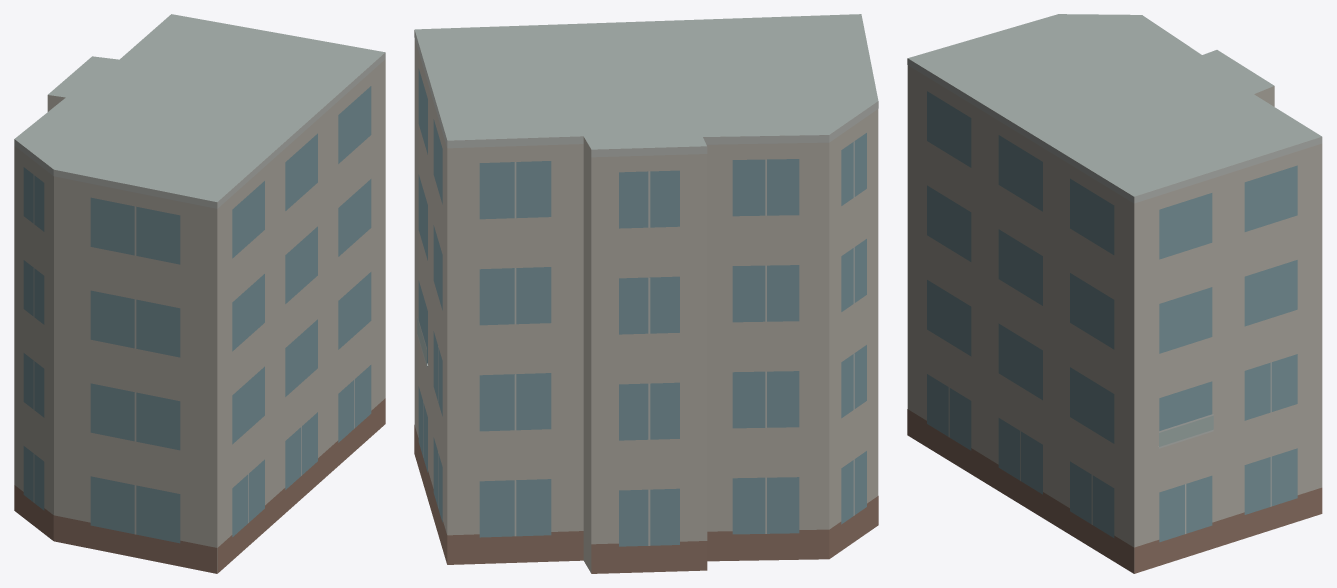
File: survey-upis-32804265.glb
3 renders of one model, left to right at view 1: azimuth 30°, elevation 25°; view 2: azimuth 150°, elevation 25°; view 3: azimuth 270°, elevation 25°, orthographic. The views are drawn at different scales.
Visible parts, largest first — view 1: survey-upis-32804265.tmp; view 2: survey-upis-32804265.tmp; view 3: survey-upis-32804265.tmp.
Part boxes in pixels (left/top/right/bottom): survey-upis-32804265.tmp: left=14, top=14, right=385, bottom=573; survey-upis-32804265.tmp: left=414, top=14, right=878, bottom=573; survey-upis-32804265.tmp: left=907, top=14, right=1322, bottom=573.
Bounding box in the file's own units: 14.04 × 13.5 × 13.47.
